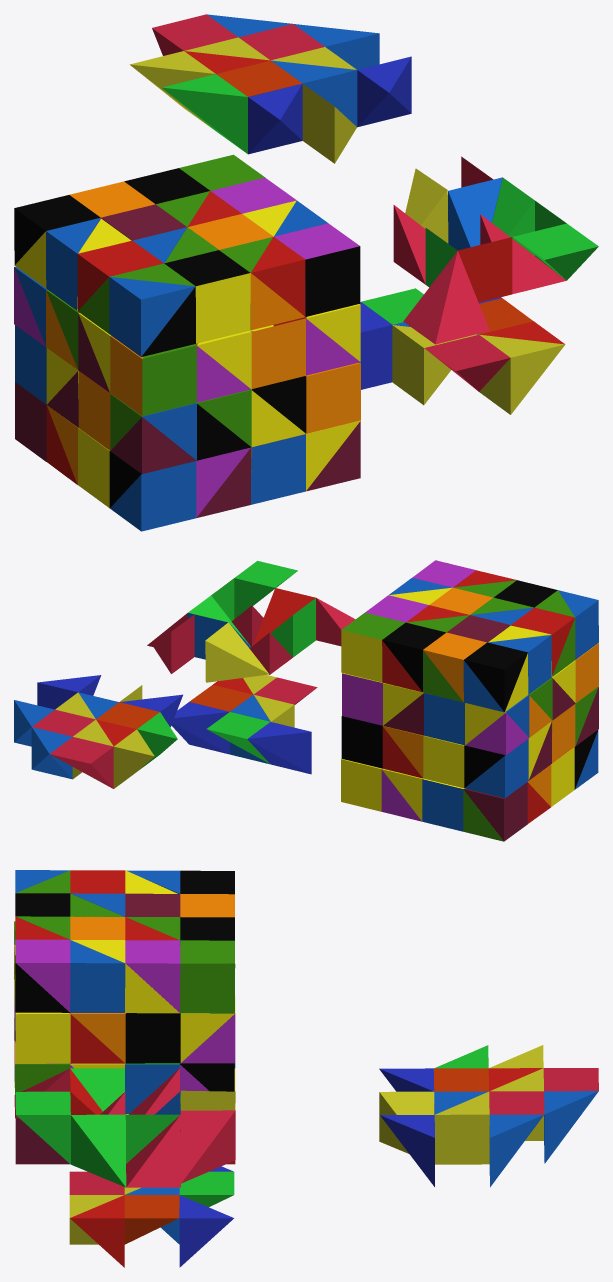
The model's file is modelc6.fbx.
3 views of the same model, one above another, from view 1: azimuth 30°, elevation 25°; view 2: azimuth 150°, elevation 25°; view 3: azimuth 270°, elevation 25° (orthographic). The views are drawn at different scales.
Visible parts, largest first — view 1: Cube.365, Cube.297, Cube.221, Cube.291, Cube.208, Cube.295, Cube.375, Cube.248, Cube.369, Cube.300, Cube.212, Cube.325 (+82 smaller); view 2: Cube.309, Cube.358, Cube.229, Cube.231, Cube.269, Cube.307, Cube.204, Cube.351, Cube.328, Cube.337, Cube.273, Cube.279 (+81 smaller); view 3: Cube.318, Cube.334, Cube.331, Cube.377, Cube.327, Cube.321, Cube.343, Cube.374, Cube.328, Cube.319, Cube.347, Cube.320 (+54 smaller).
Boxes of the visible parts, x1,y1,x2,y2 form: Cube.365: (109, 277, 195, 356); Cube.297: (403, 251, 489, 344); Cube.221: (110, 461, 196, 531); Cube.291: (162, 74, 247, 153); Cube.208: (479, 334, 565, 414); Cube.295: (142, 344, 196, 416); Cube.375: (305, 246, 360, 316); Cube.248: (306, 362, 360, 433); Cube.369: (195, 273, 250, 343); Cube.300: (248, 83, 302, 154); Cube.212: (251, 434, 305, 504); Cube.325: (357, 56, 411, 127); Cube.309: (205, 622, 269, 682); Cube.358: (464, 642, 527, 711); Cube.229: (247, 722, 311, 774); Cube.231: (463, 782, 527, 841); Cube.269: (464, 739, 528, 798); Cube.307: (50, 737, 113, 788); Cube.204: (171, 702, 229, 754); Cube.351: (423, 632, 486, 701); Cube.328: (234, 561, 297, 618); Cube.337: (382, 622, 445, 691); Cube.273: (423, 735, 464, 788); Cube.279: (341, 716, 382, 768); Cube.318: (180, 1110, 235, 1183); Cube.334: (434, 1091, 489, 1164); Cube.331: (71, 1114, 126, 1187); Cube.377: (70, 940, 125, 1012); Cube.327: (15, 1012, 70, 1063); Cube.321: (125, 1013, 180, 1063); Cube.343: (180, 963, 235, 1013); Cube.374: (15, 939, 70, 1011); Cube.328: (15, 1091, 70, 1164); Cube.319: (126, 1115, 181, 1187); Cube.347: (125, 940, 180, 1012); Cube.320: (489, 1114, 543, 1187).
Size of the model in its own units: 1875 by 824 by 2130.
